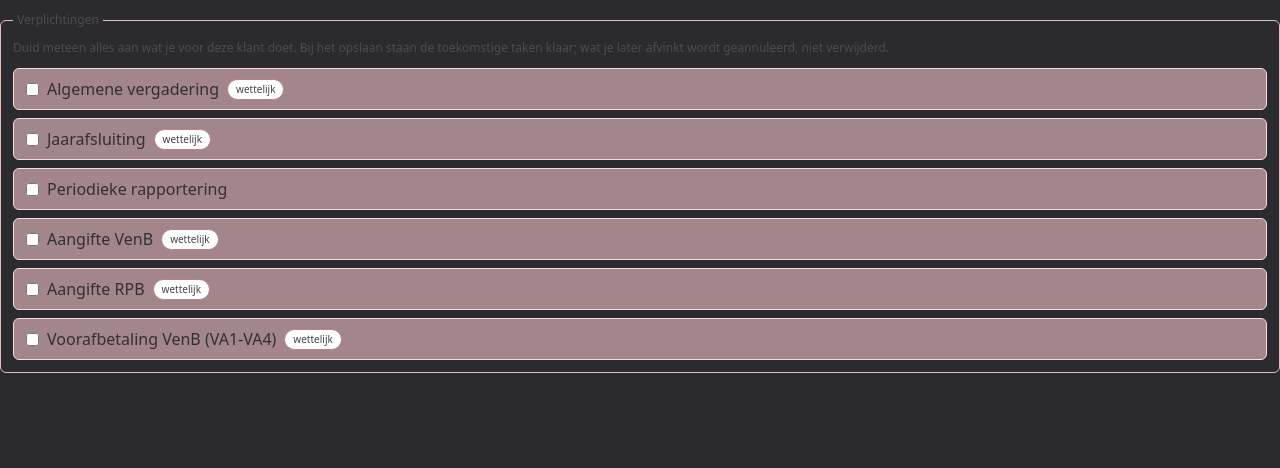
ObligationPicker — getoonde standaardwaarden staan ook echt in parameters › schrijft sla_maanden weg zodra jaarafsluiting aangevinkt wordt
Step 1. Click the checkbox labelled "Jaarafsluiting wettelijk" → x=32, y=139, box [26,132,39,146]
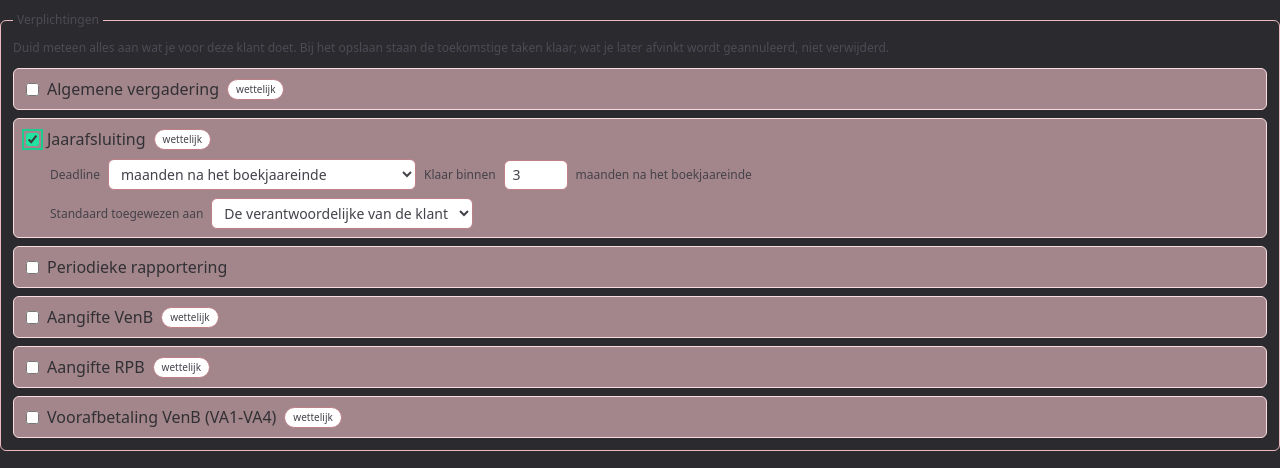
Expected: the number field named "Klaar binnen (maanden na boekjaareinde)" holds "3", [504,160,568,190]
